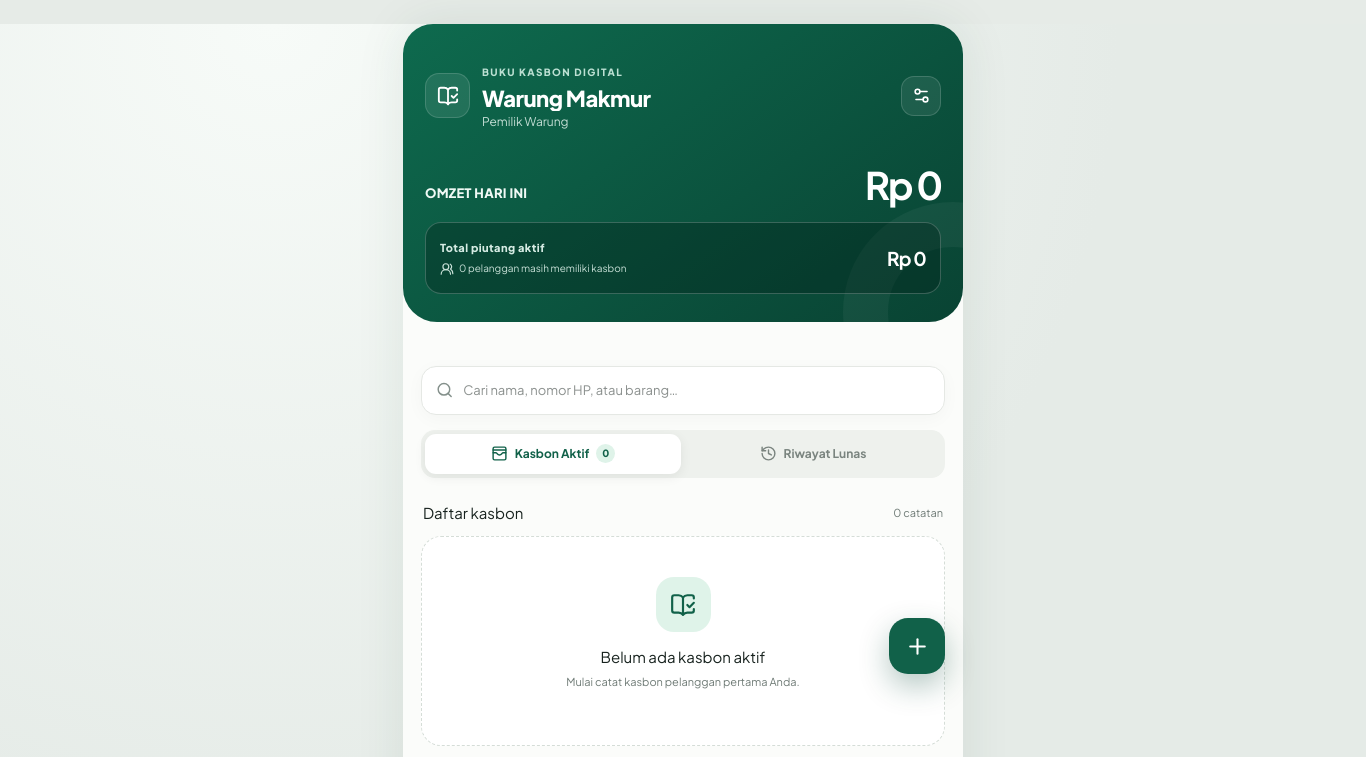
Test: Dashboard forms › opens the data and backup center from store settings
Check: the field with placeholder "Cari nama, nomor HP, atau barang…" is shown, box x1=453 y1=381 x2=930 y2=400
Step 1. Click the button named "Pengaturan warung" → (921, 96), box x1=901 y1=76 x2=941 y2=116
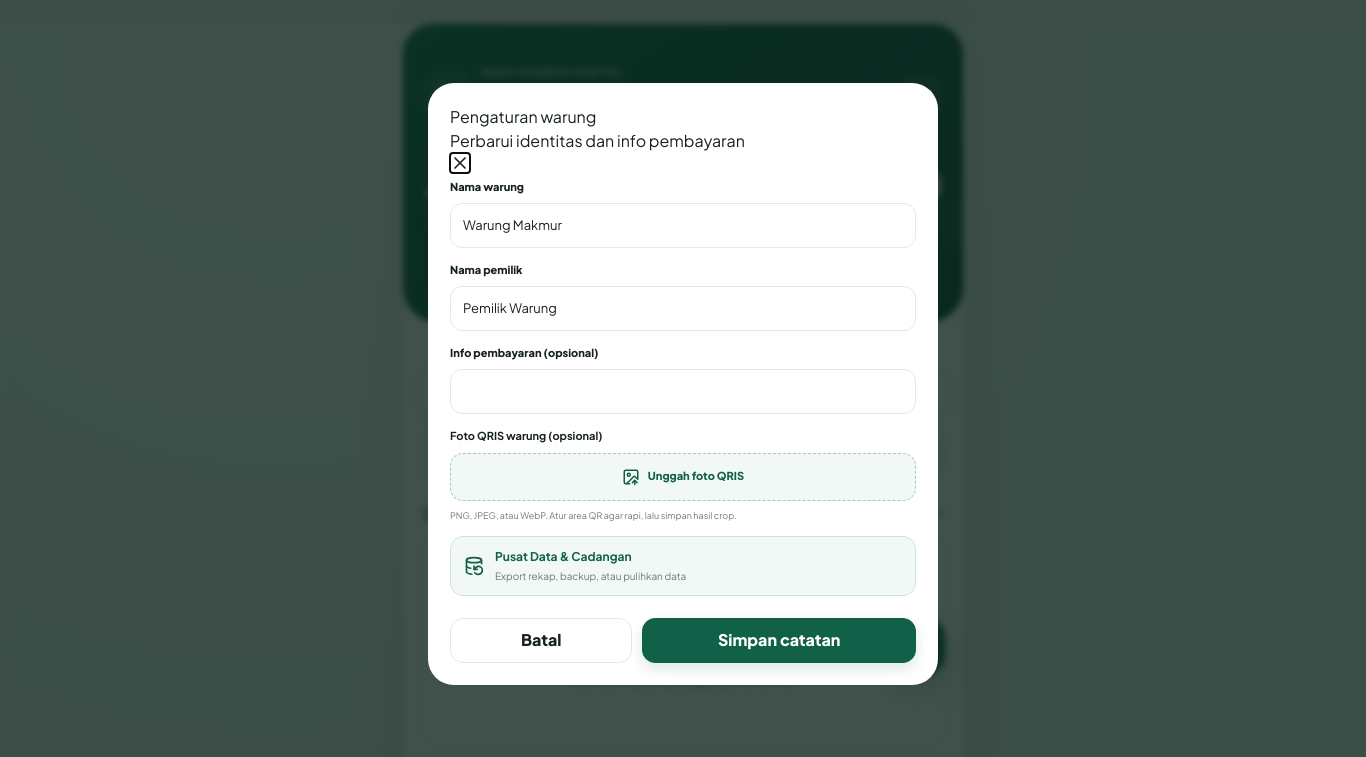
Step 2. Click the button "Pusat Data & Cadangan" → (563, 556), box x1=450 y1=536 x2=916 y2=596
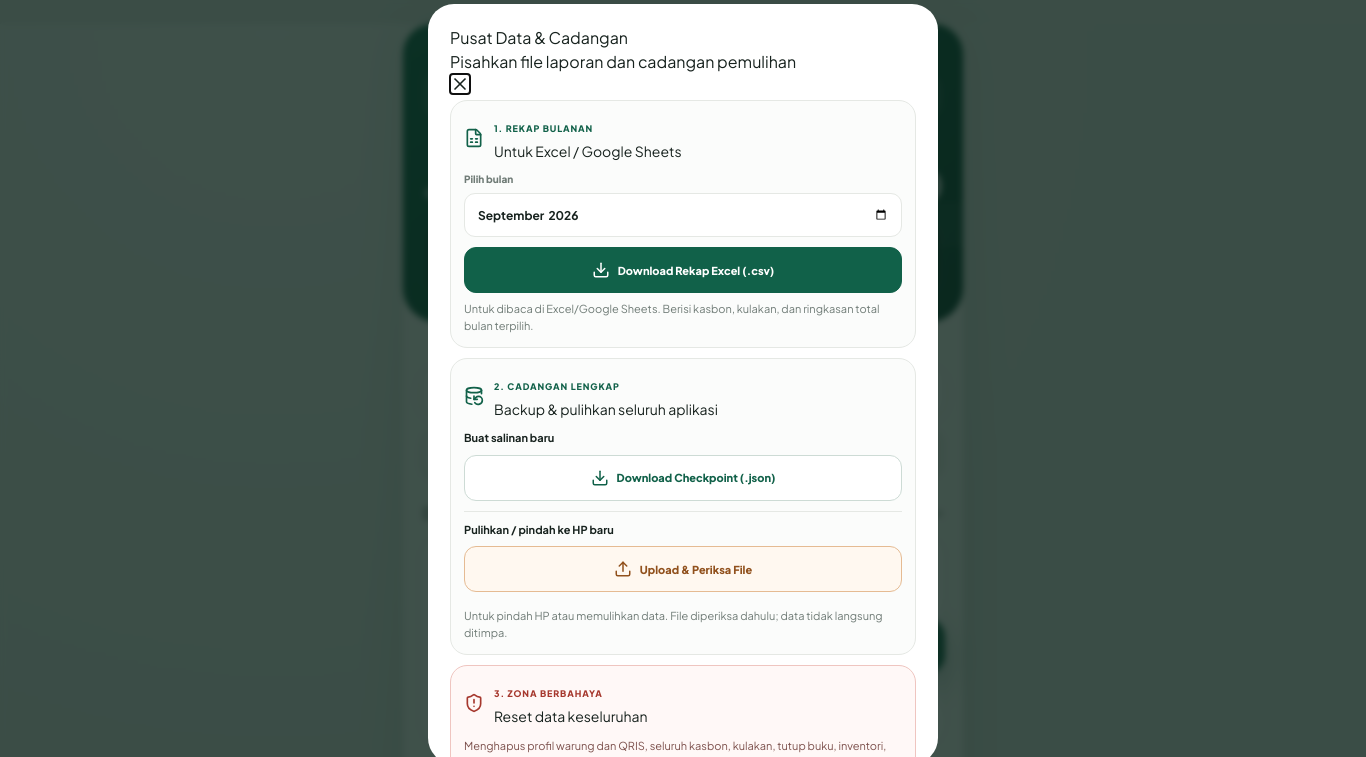
Check: the heading "Pusat Data & Cadangan" is shown, box x1=450 y1=27 x2=628 y2=48
